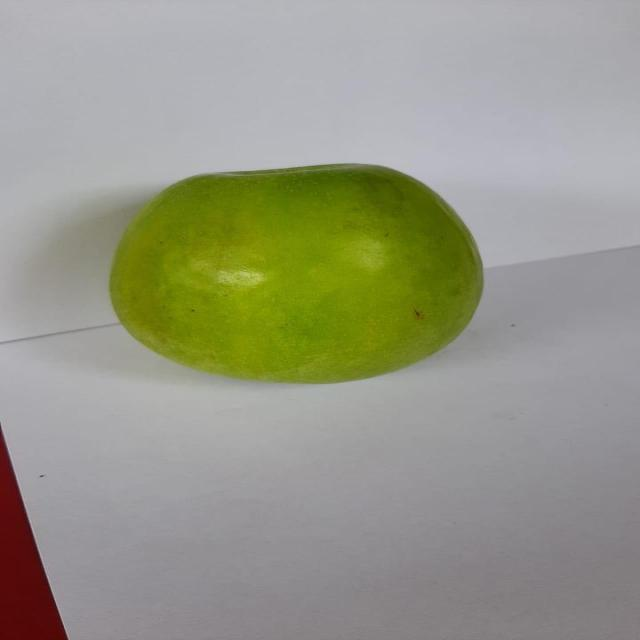Rotten Apple: (103, 150, 497, 396)
